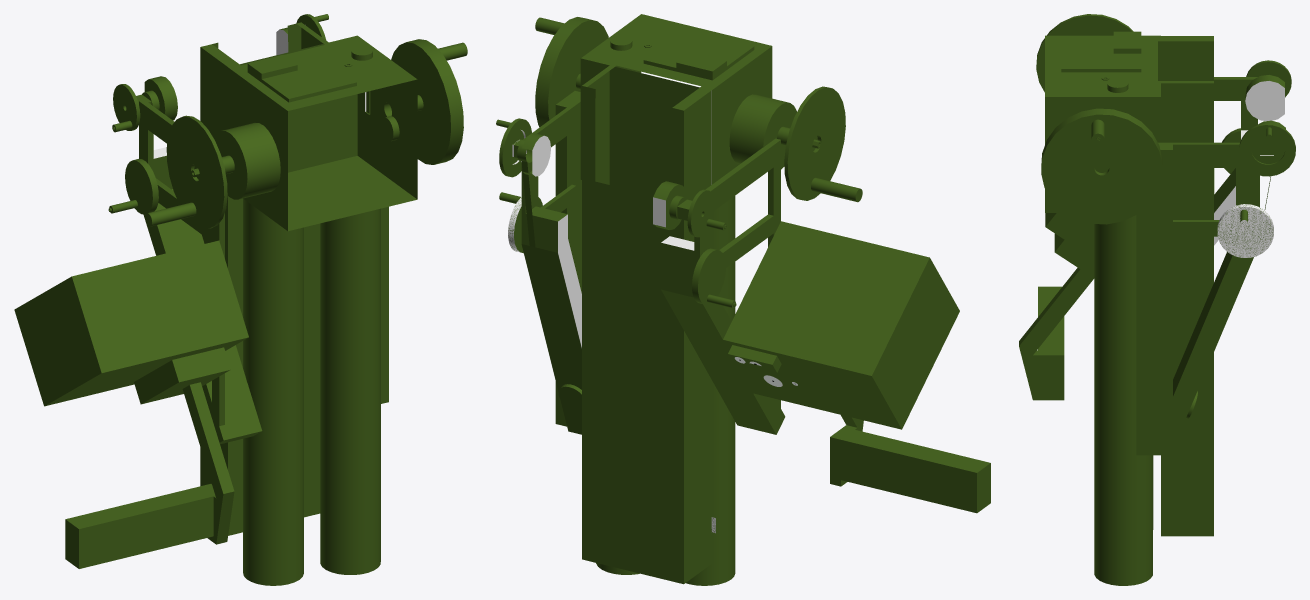
The model's file is FlakTurnTable.dae.
3 renders of one model, left to right at view 1: azimuth 30°, elevation 25°; view 2: azimuth 150°, elevation 25°; view 3: azimuth 270°, elevation 25°, orthographic. The views are drawn at different scales.
Visible parts, largest first — view 1: CannonTurnTable (×16); view 2: CannonTurnTable (×19); view 3: CannonTurnTable (×16).
Boxes of the visible parts, left/top/right/bottom form: CannonTurnTable (×16): left=14, top=22, right=463, bottom=585; CannonTurnTable (×19): left=499, top=14, right=990, bottom=585; CannonTurnTable (×16): left=1019, top=14, right=1295, bottom=585.
Size of the model in its own units: 24.48 by 14.57 by 28.99.
